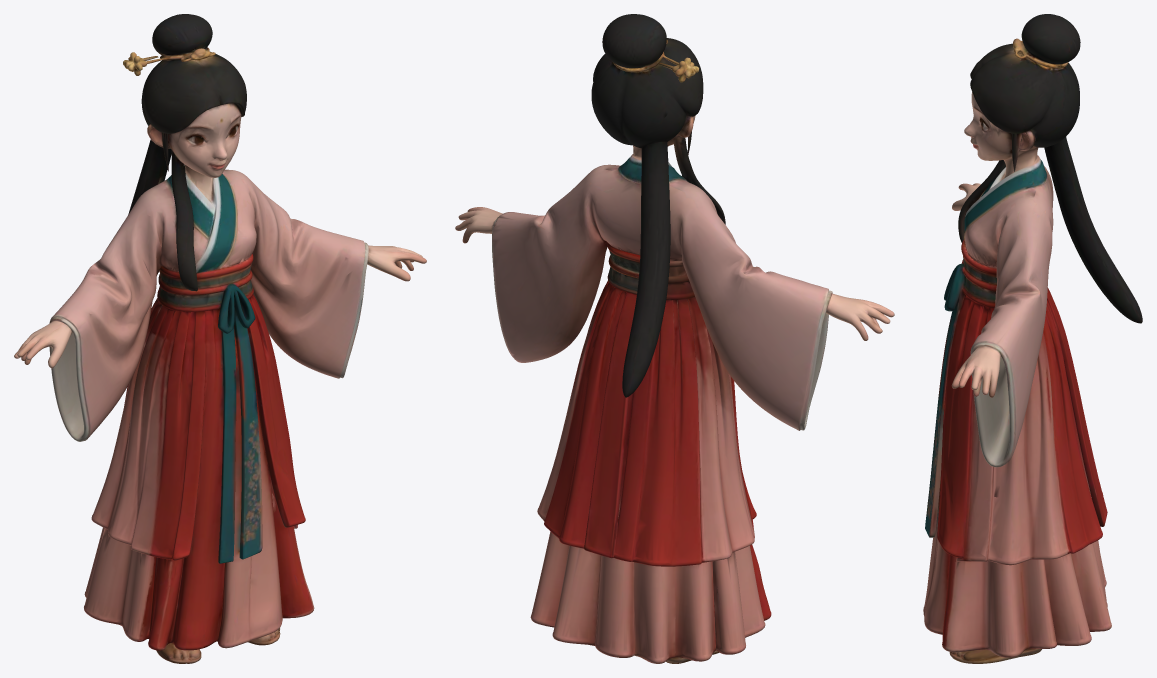
Rendered from heichi_red.glb.
3 renders of one model, left to right at view 1: azimuth 30°, elevation 25°; view 2: azimuth 150°, elevation 25°; view 3: azimuth 270°, elevation 25°, orthographic. The views are drawn at different scales.
Visible parts, largest first — view 1: node_0; view 2: node_0; view 3: node_0.
Boxes of the visible parts, bbox=[...] form: node_0: bbox=[14, 14, 426, 663]; node_0: bbox=[455, 14, 894, 663]; node_0: bbox=[923, 14, 1142, 663].
Bounding box in the file's own units: 0.8133 × 1.16 × 0.3717.
1 material, 1 textured.
